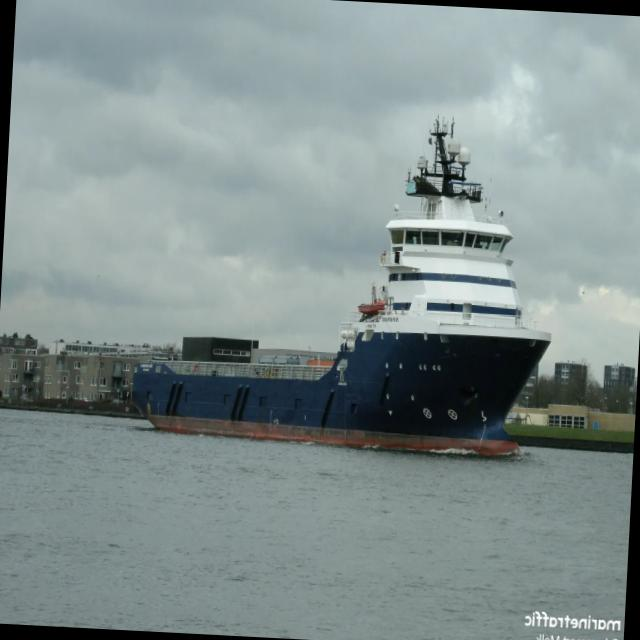Offshore: (133, 120, 551, 455)
